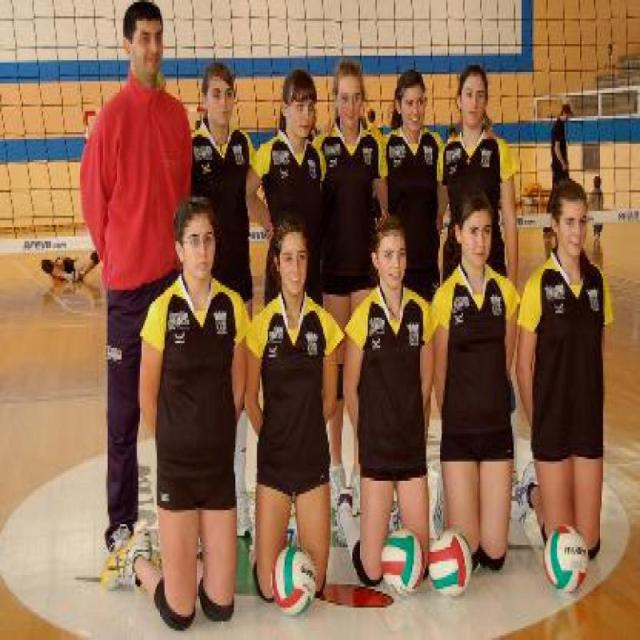volleyball: (426, 529, 472, 601), (270, 547, 316, 617), (379, 526, 424, 596), (542, 524, 588, 591)
